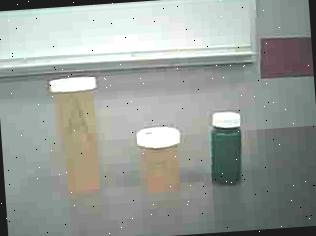Bottle A: (45, 72, 108, 198)
Bottle B: (134, 126, 192, 196)
Bottle C: (205, 106, 253, 196)
